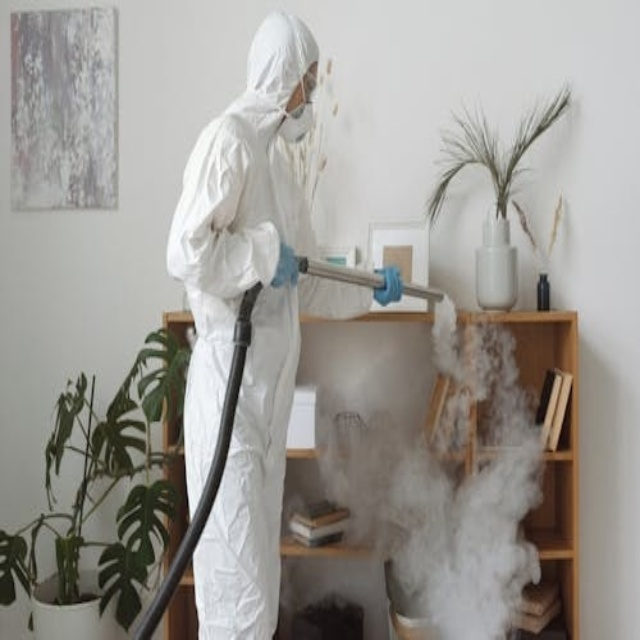Gafas: (292, 71, 316, 112)
Guantes: (271, 243, 301, 289), (372, 266, 404, 307)
Mascara: (281, 91, 314, 142)
